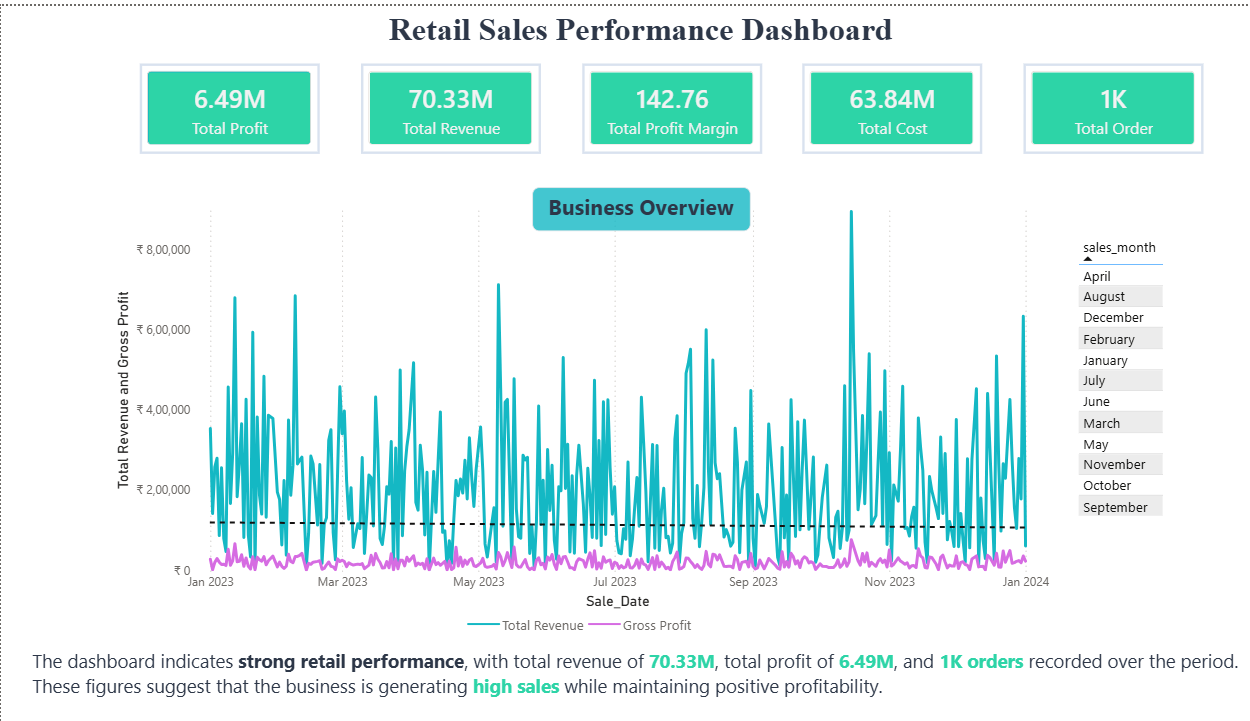

Layout of this report page (visuals, bound fields, positions):
{"tool":"powerbi","page":{"name":"Overview","canvas":[1280,720],"ordinal":0},"visuals":[{"type":"textbox","box":[362.8,0,554.4,57.6],"z":0},{"type":"cardVisual","fields":{"Data":["Sum(sale.Profit )"]},"box":[138.8,57.5,180,90],"z":1000},{"type":"cardVisual","fields":{"Data":["CountNonNull(sale.ID)"]},"box":[1022.5,57.5,180,90],"z":2000},{"type":"cardVisual","fields":{"Data":["Sum(sale.total_cost)"]},"box":[801.6,57.5,180,90],"z":3000},{"type":"cardVisual","fields":{"Data":["Sum(sale.Profit Margin)"]},"box":[580.6,57.5,180,90],"z":4000},{"type":"cardVisual","fields":{"Data":["Sum(sale.Revenue)"]},"box":[359.7,57.5,180,90],"z":5000},{"type":"lineChart","fields":{"Category":["sale.Sale_Date"],"Y":["Sum(sale.Revenue)","Sum(sale.gross_profit)"]},"box":[108.8,189.5,945,447.5],"z":6000},{"type":"textbox","box":[530.9,181.1,218.2,43.9],"z":7000},{"type":"tableEx","fields":{"Values":["sale.sales_month"]},"box":[1071.2,225,106.4,300.8],"z":8000},{"type":"textbox","box":[25.7,637.1,1227.7,69.7],"z":9000}]}

Visuals, with their boxes in screenshot pixels (x1, y1, x2, y2), scaled from the page's 1280x720 canvas onto the 1250x721 screenshot:
textbox: 354:0:896:58
cardVisual - Sum(sale.Profit ): 136:58:311:148
cardVisual - CountNonNull(sale.ID): 999:58:1174:148
cardVisual - Sum(sale.total_cost): 783:58:959:148
cardVisual - Sum(sale.Profit Margin): 567:58:743:148
cardVisual - Sum(sale.Revenue): 351:58:527:148
lineChart - sale.Sale_Date x Sum(sale.Revenue): 106:190:1029:638
textbox: 518:181:732:225
tableEx - sale.sales_month: 1046:225:1150:527
textbox: 25:638:1224:708
